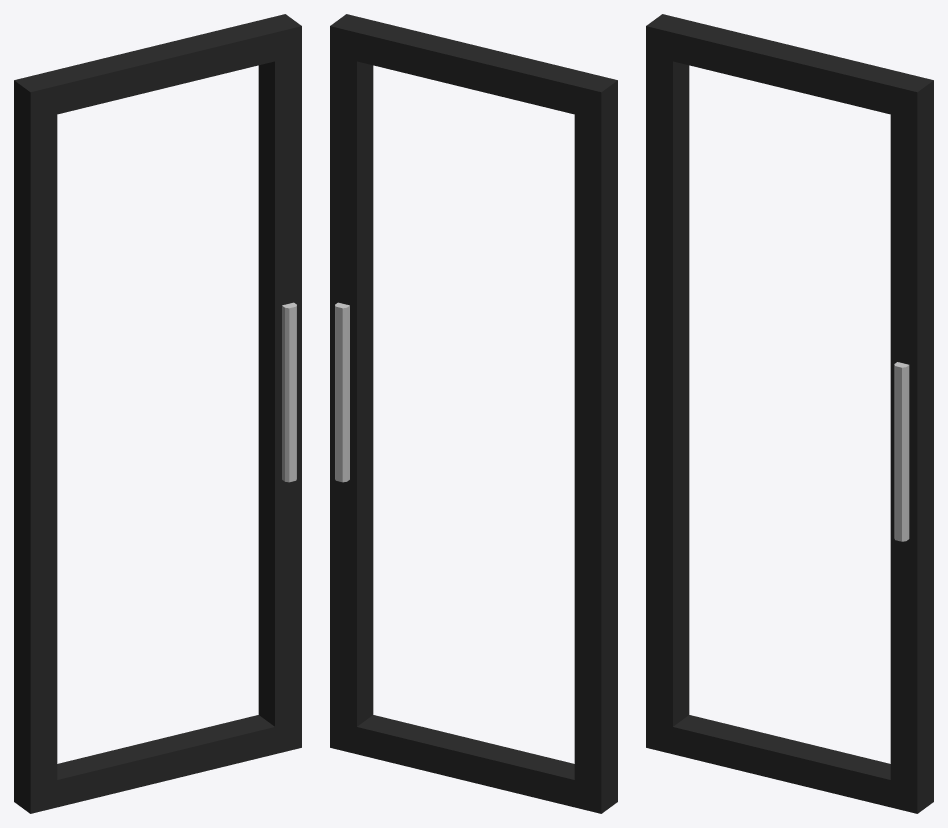
Rendered from door_1.fbx.
3 views of the same model, side by side, from view 1: azimuth 30°, elevation 25°; view 2: azimuth 150°, elevation 25°; view 3: azimuth 330°, elevation 25° (orthographic).
Parts seen in each view (by area): view 1: door_1; view 2: door_1; view 3: door_1.
Boxes of the visible parts, left/top/right/bottom form: door_1: left=14, top=14, right=301, bottom=813; door_1: left=330, top=14, right=617, bottom=813; door_1: left=646, top=14, right=933, bottom=813.
Size of the model in its own units: 95 by 241 by 15.82.
